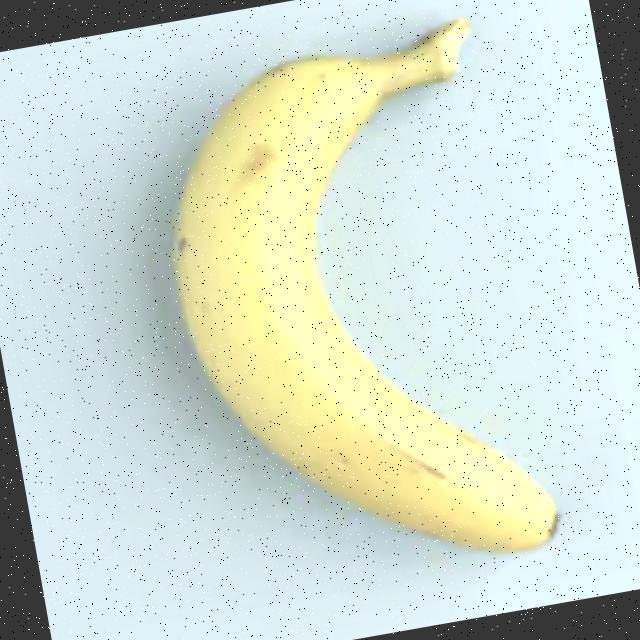Ripe: (127, 0, 628, 617)
